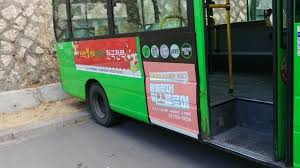out: (181, 1, 298, 163)
